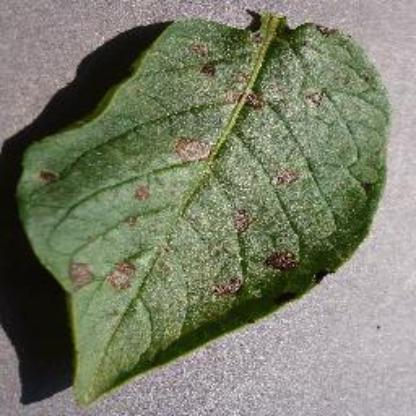Early-Blight: (20, 13, 392, 404)
